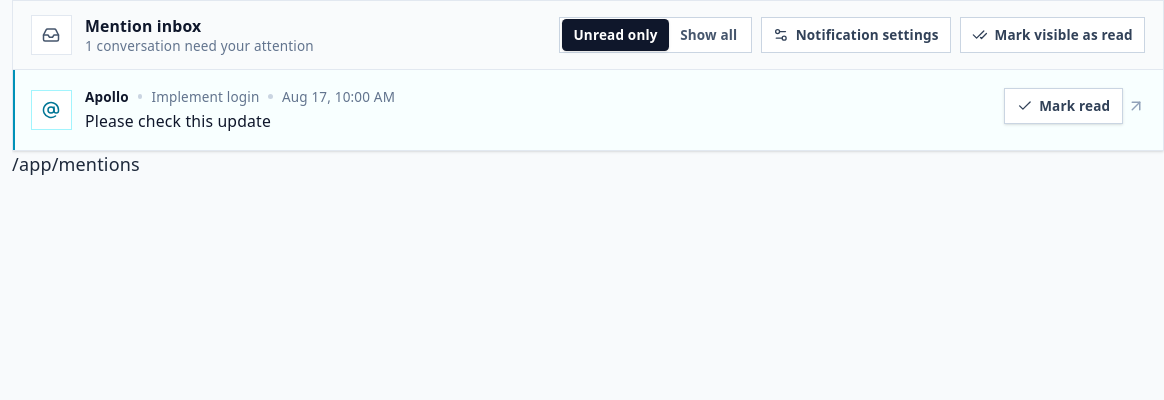
Scenario: MentionsPage › marks a single mention as read
This screenshot has width=1164, height=400.
Click the button "Mark read" at (1063, 106), box [1004, 88, 1122, 124]
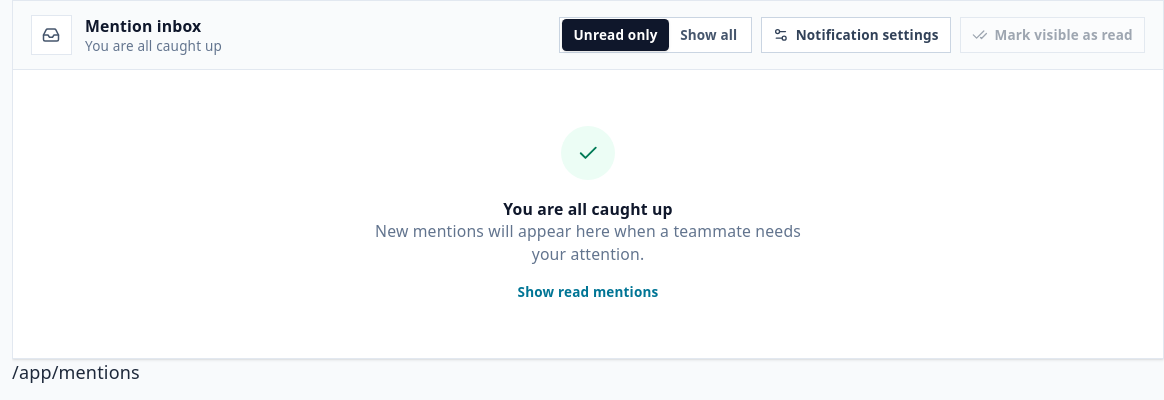
Check: the button "Mark read" is gone
